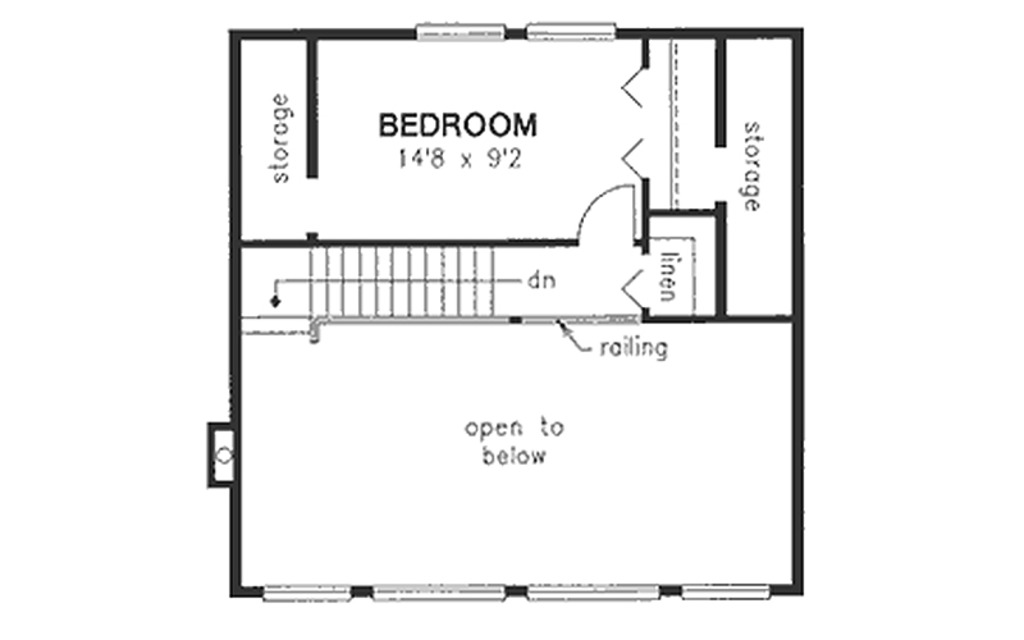door: (570, 166, 640, 244)
stairs: (235, 236, 578, 365)
window: (520, 578, 666, 603), (368, 582, 510, 602), (524, 21, 622, 41), (264, 582, 351, 604), (417, 22, 509, 42), (683, 581, 773, 600)
